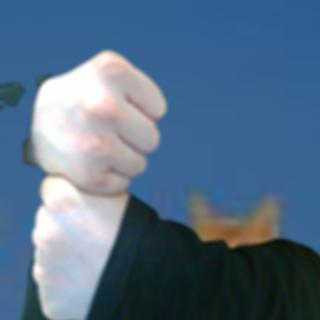CAREFUL: (15, 44, 173, 320)
